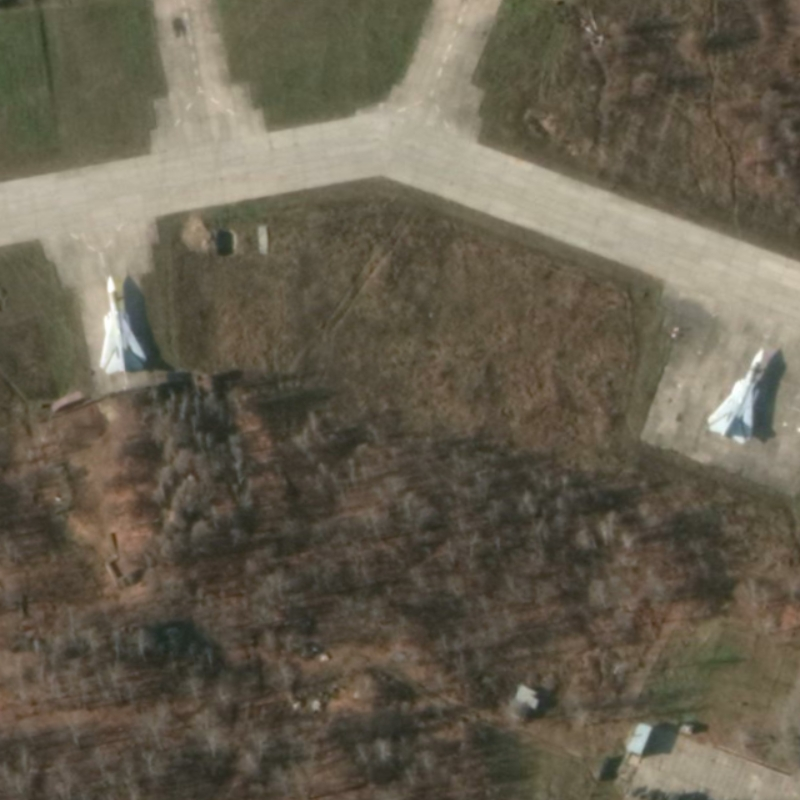A20: (705, 346, 766, 447), (97, 273, 150, 376)
